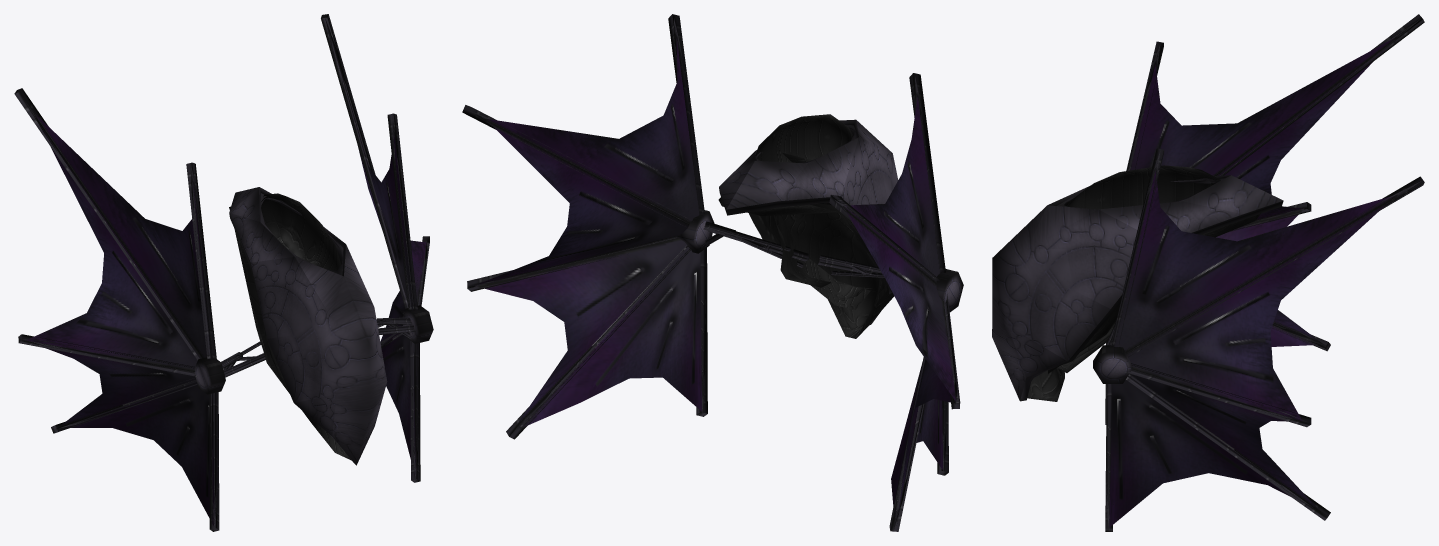
The model's file is zhuangzong.obj.
3 renders of one model, left to right at view 1: azimuth 30°, elevation 25°; view 2: azimuth 150°, elevation 25°; view 3: azimuth 270°, elevation 25°, orthographic. The views are drawn at different scales.
Size of the model in its own units: 30.5 by 24.76 by 25.52.
Materials: 4 (4 with a texture image).
